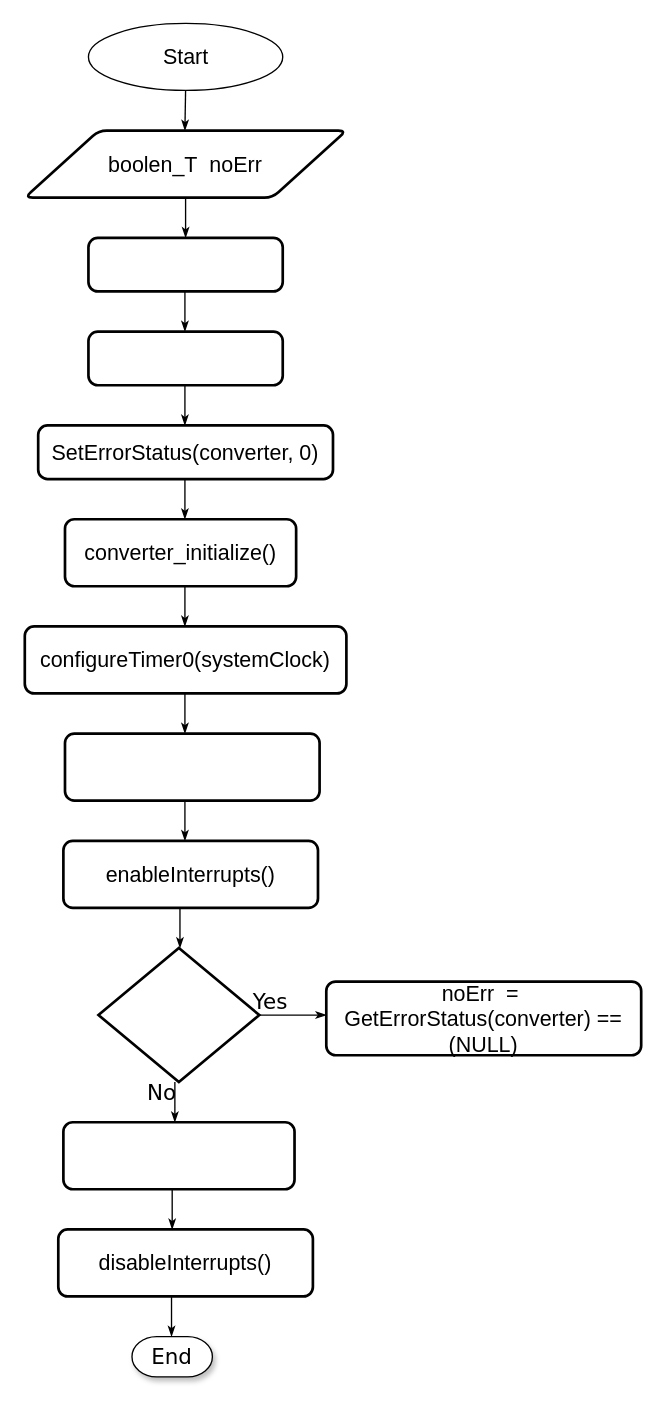
This 665x1410 diagram has some shape labels left out. The shapes that lost their labels are listed below. From the top down, each one's centre as x and y in pixels, then its label:
At [184,264]: "DSP_memory_init()".
At [184,358]: "DSP_board_init()".
At [191,766]: "noErr = GetErrorStatus(converter)".
At [178,1014]: "noErr = Ture".
At [178,1155]: "converter_terminate()".
